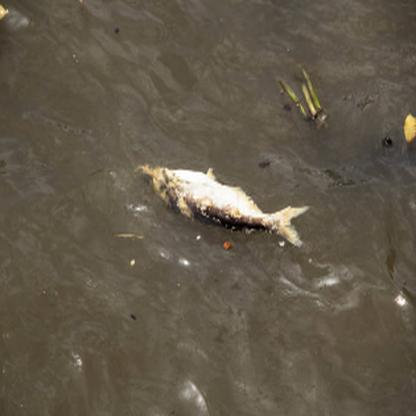deceased fish: (142, 161, 313, 254)
